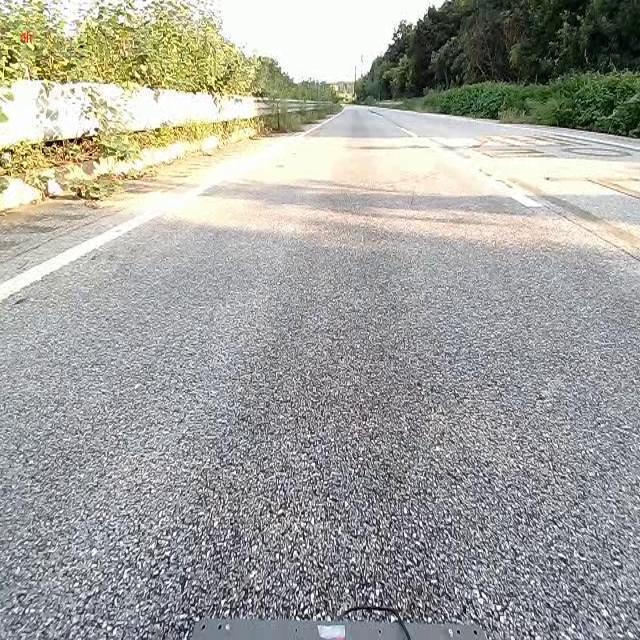Lane: (0, 174, 220, 305), (0, 203, 168, 302), (480, 167, 553, 212), (486, 176, 543, 206), (176, 185, 210, 198)
